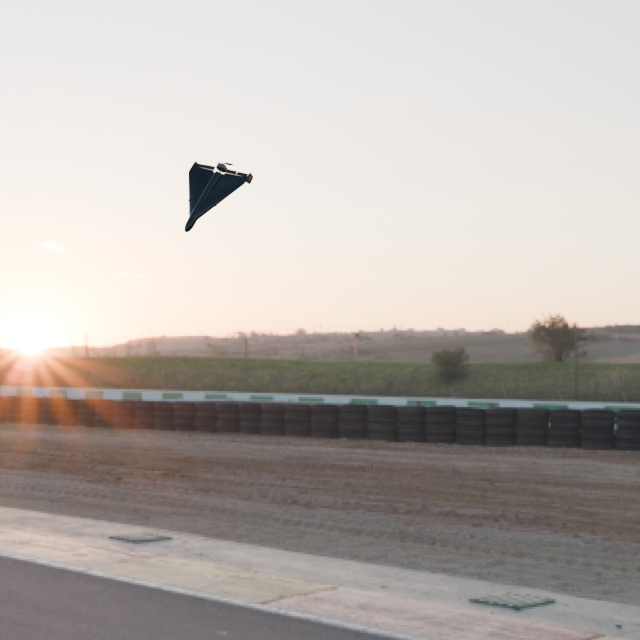shahed: (184, 160, 253, 232)
